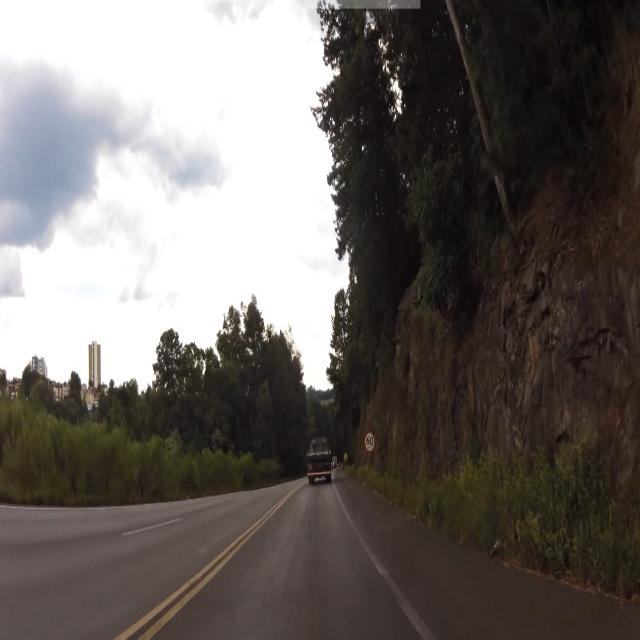R-19: (364, 430, 375, 453)
